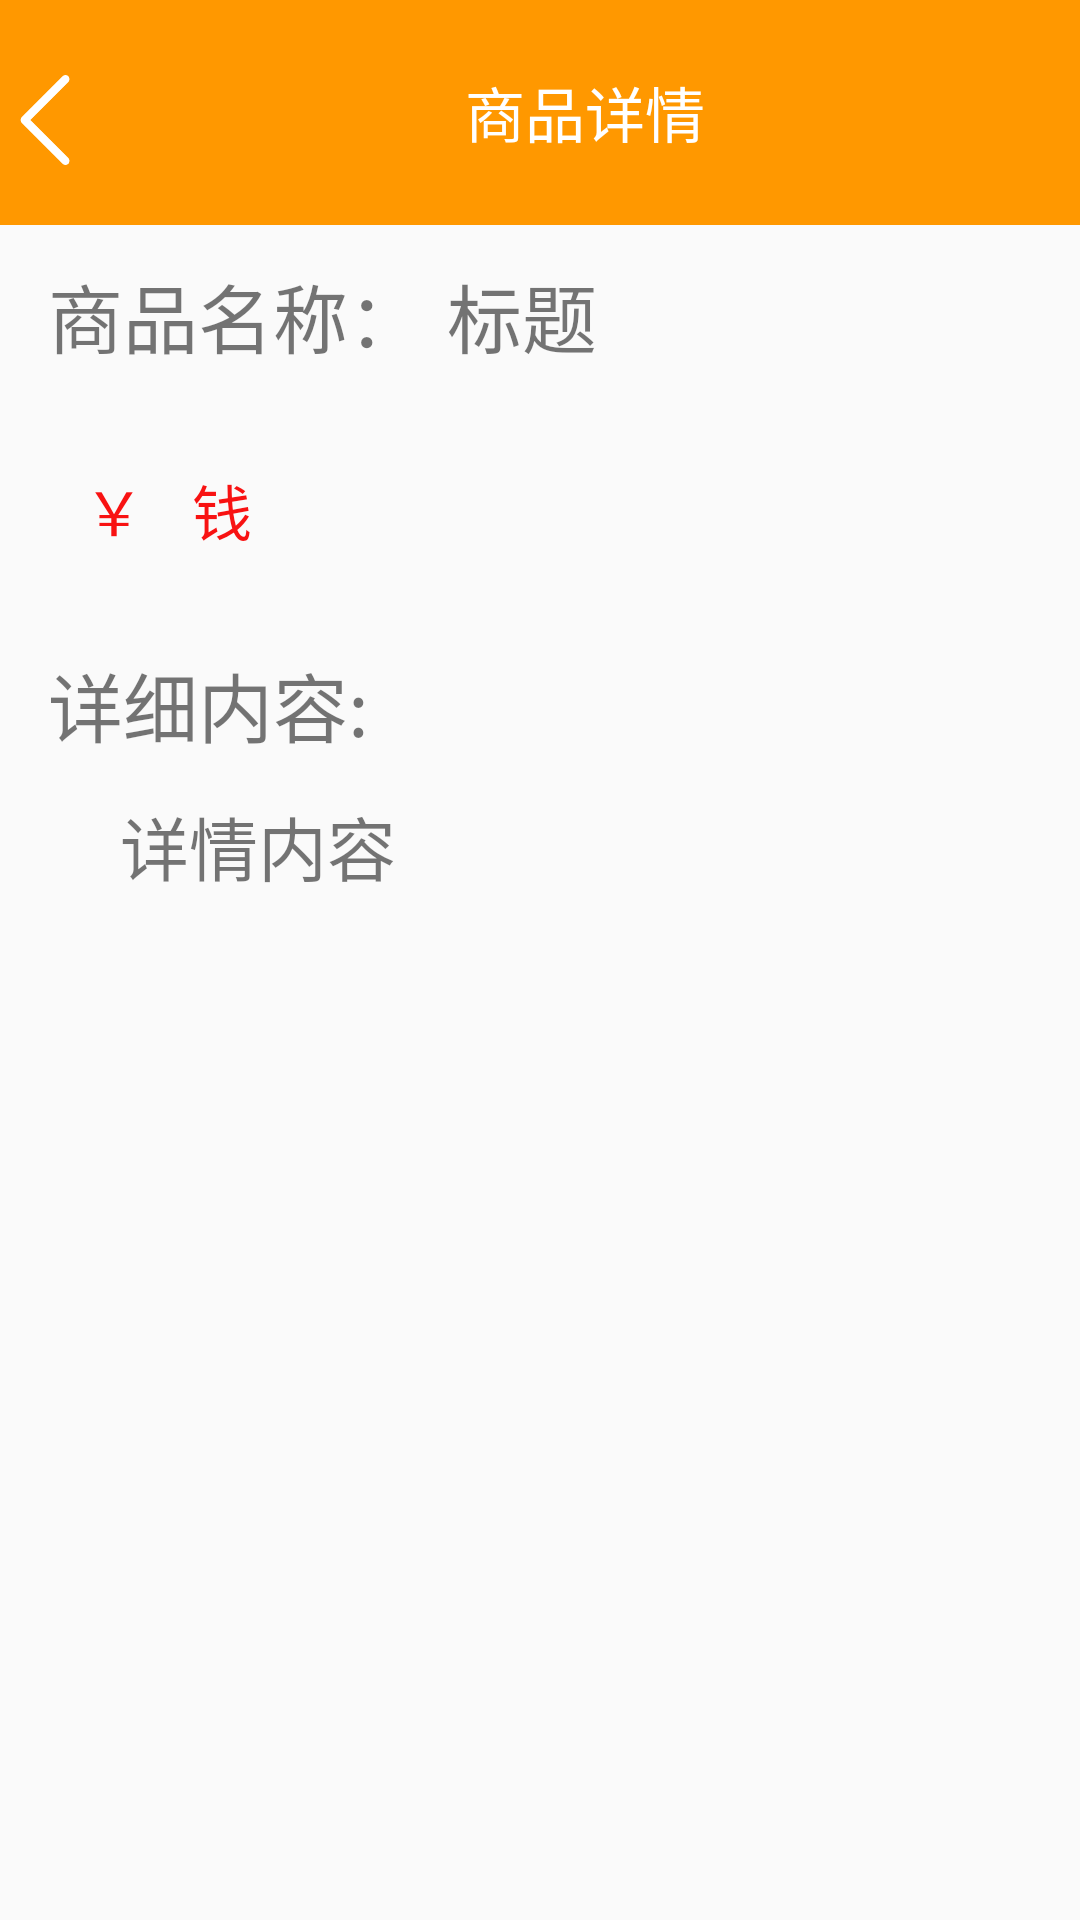

Locate icon controls on the screen. Image size 1080px×1920px, boxes as (x1, y1, x2, y2).
arrow back: (20, 75, 70, 165)
